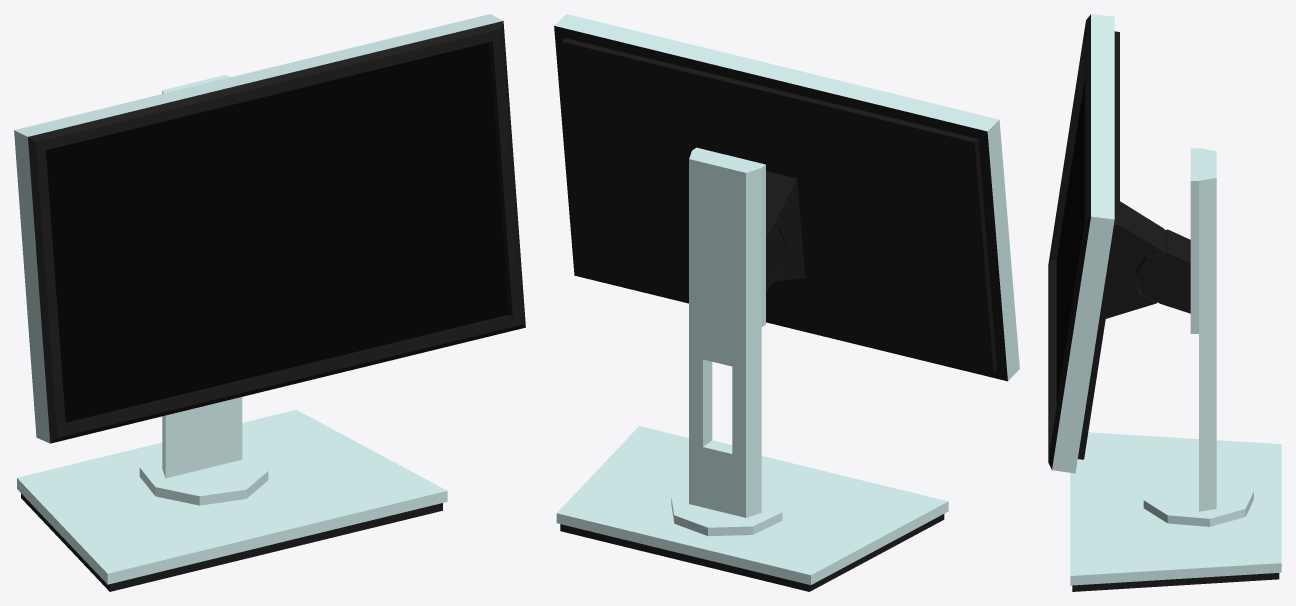
Rendered from monitor.fbx.
3 renders of one model, left to right at view 1: azimuth 30°, elevation 25°; view 2: azimuth 150°, elevation 25°; view 3: azimuth 270°, elevation 25°, orthographic. The views are drawn at different scales.
Parts seen in each view (by area): view 1: monitor; view 2: monitor; view 3: monitor.
Part boxes in pixels (x1,y1,x2,y2): monitor: (14, 14, 525, 591); monitor: (554, 14, 1019, 591); monitor: (1048, 14, 1281, 591).
Bounding box in the file's own units: 85.26 × 79.47 × 41.4.
